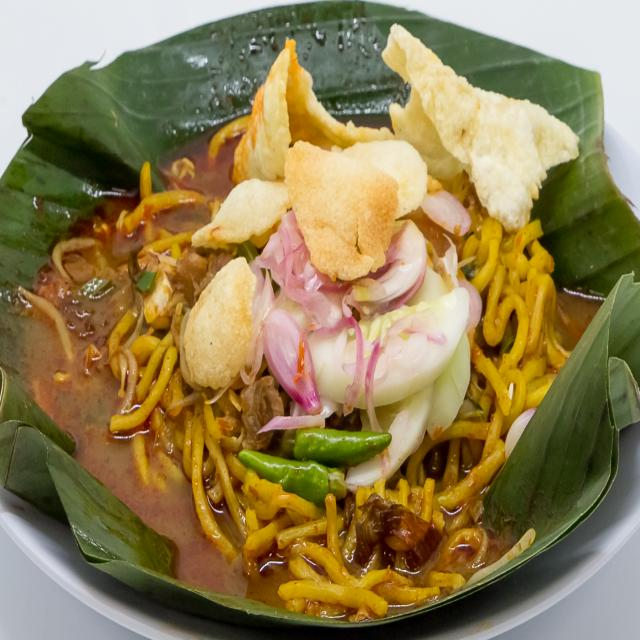Mie-Aceh: (43, 12, 578, 616)
